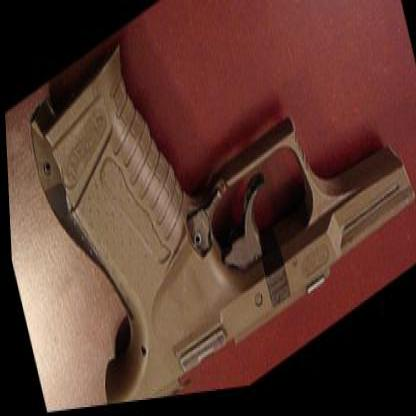pistol: (19, 0, 415, 411)
